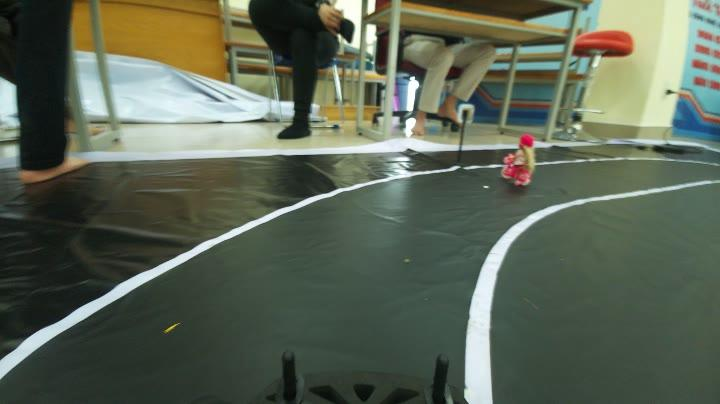pedestrian: (500, 132, 534, 186)
